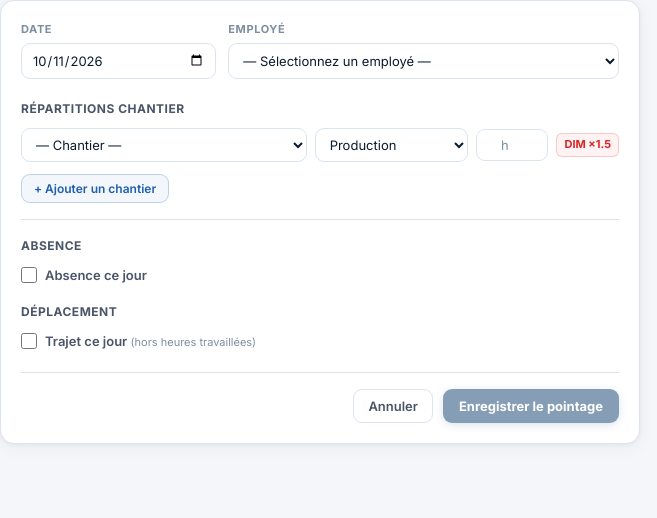
PointageFormulaire — saisie complète → upsertPointage › après enregistrement : flash de succès visible
Select "Jean Dupont" in the 1st dropdown: {"x": 424, "y": 61} [228,43,619,79]
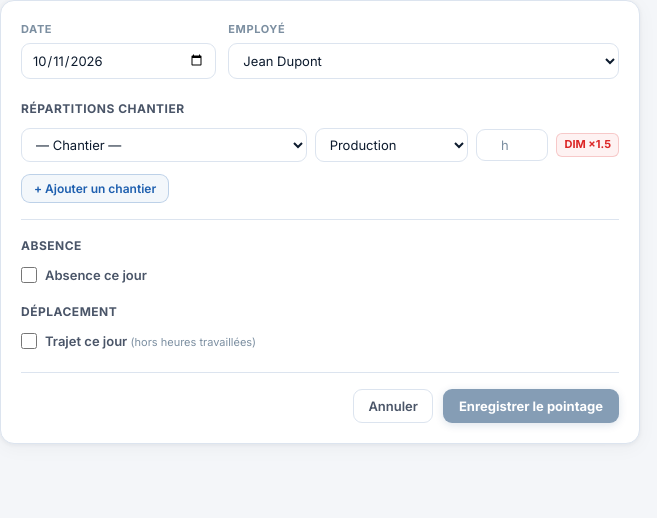
Select "Chantier Genève" in the dropdown named "Chantier": {"x": 164, "y": 145} [21,128,307,162]
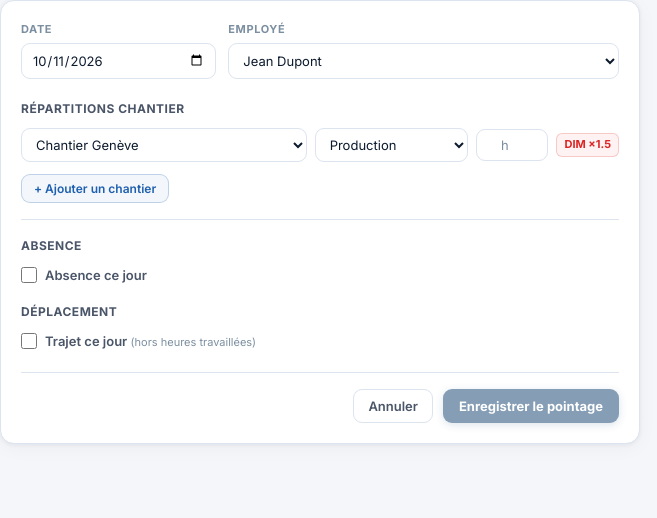
In the number field named "Heures": {"x": 512, "y": 145} [476,129,548,161], type "6"
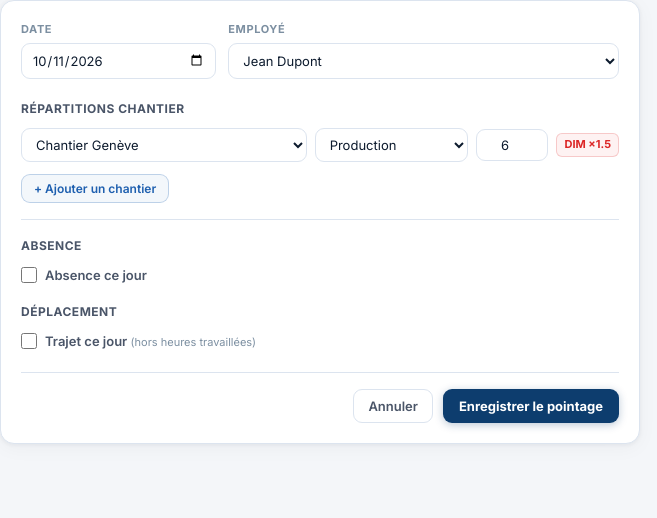
Click the button "Enregistrer le pointage": {"x": 531, "y": 406} [443,389,619,423]
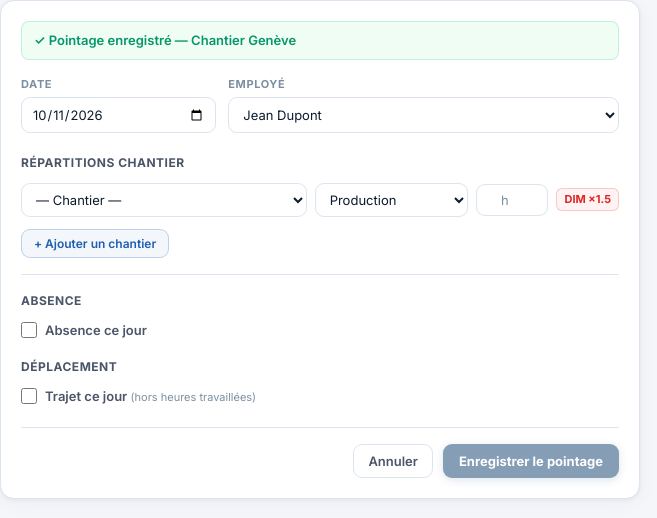
Now the text "✓ Pointage enregistré — Chantier Genève" is shown, box [21,21,619,60]
